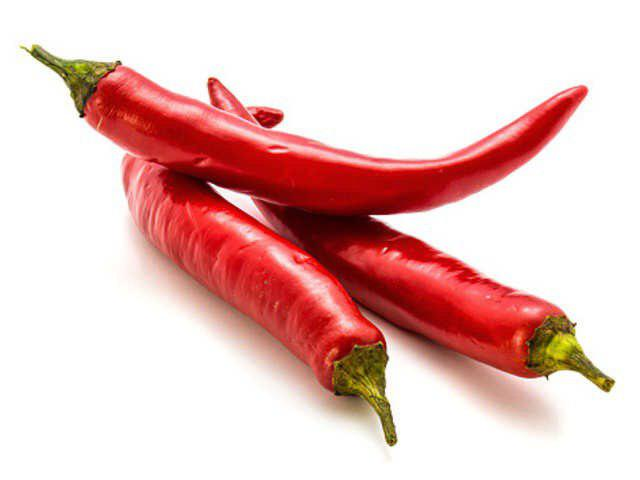lada merah: (212, 74, 576, 385), (75, 29, 602, 229), (101, 146, 396, 433)
